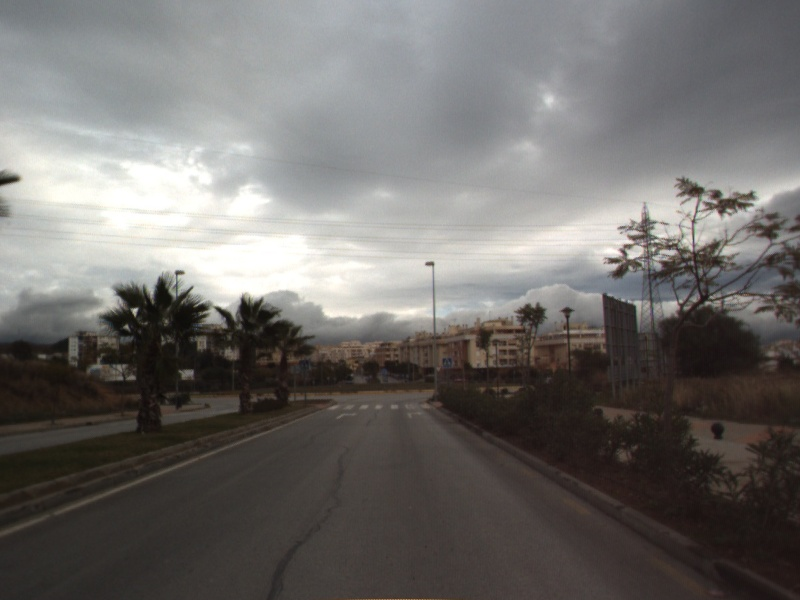RIGHT: (334, 410, 359, 421), (405, 409, 425, 420)
